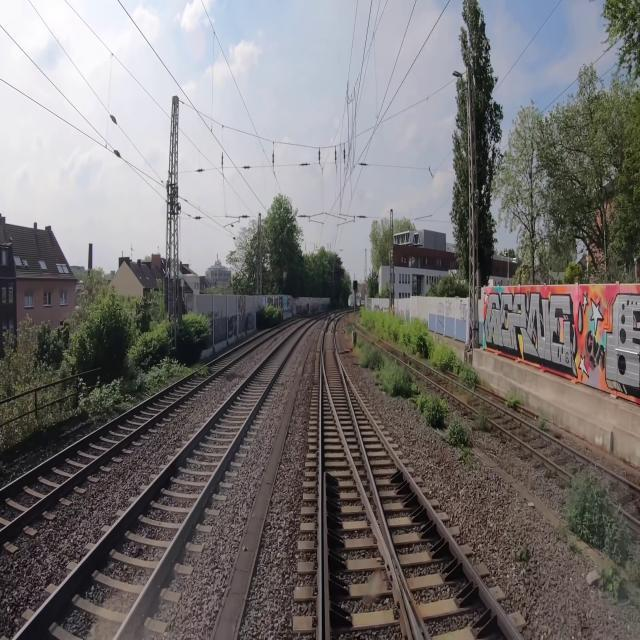Plant: (561, 459, 639, 591), (356, 335, 448, 429), (446, 412, 476, 470), (142, 367, 192, 394), (596, 565, 625, 610), (476, 405, 487, 432), (325, 313, 336, 332), (194, 365, 210, 376)
